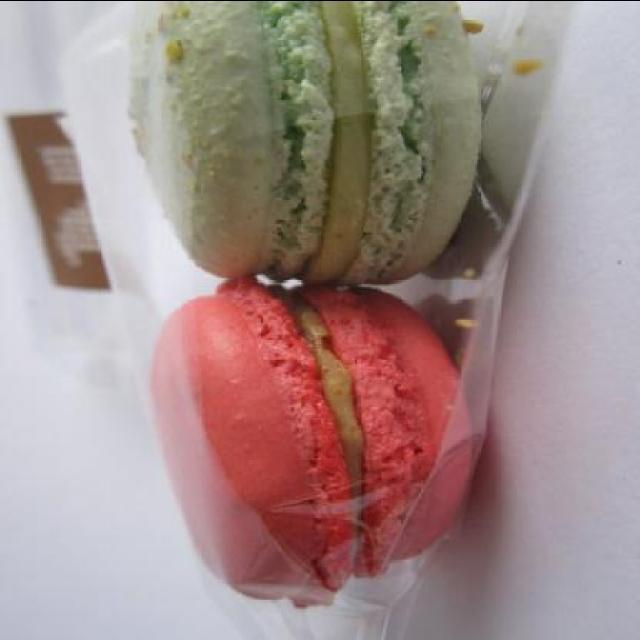Macaron: (126, 1, 510, 608)
